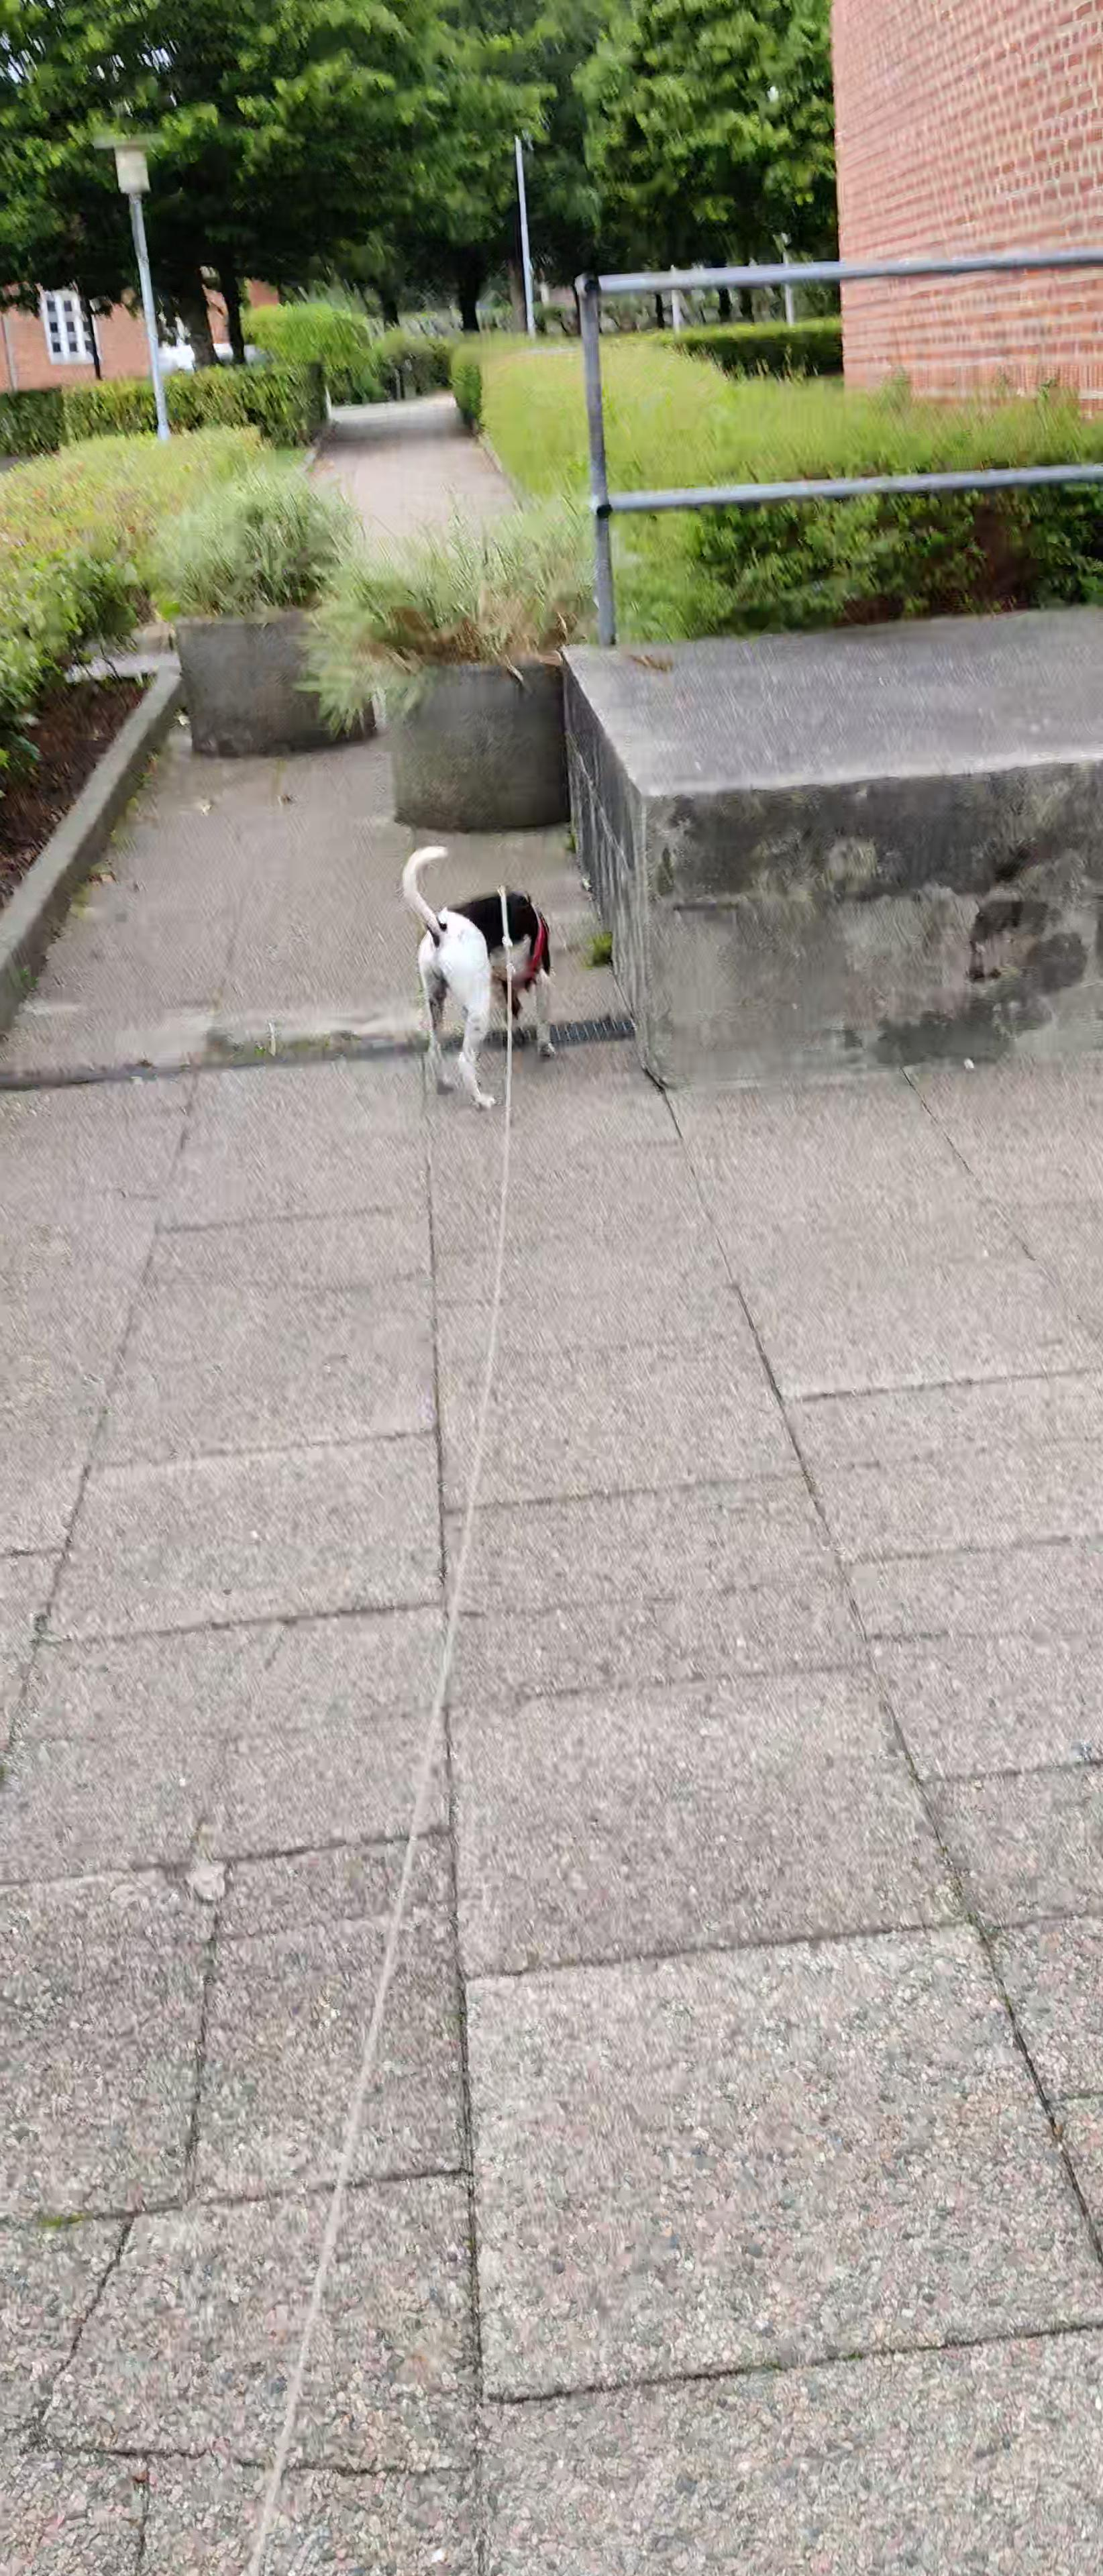Dog: (386, 833, 570, 1120)
